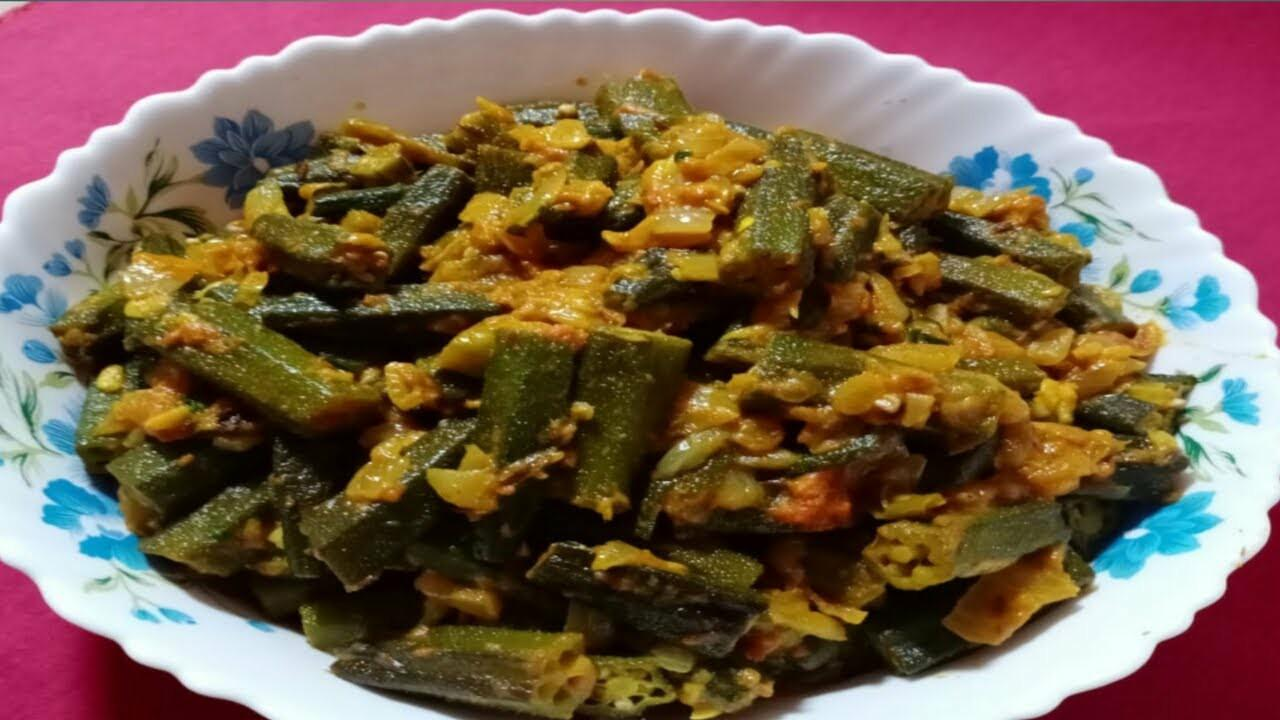BhindiMasala: (51, 71, 1196, 720)
